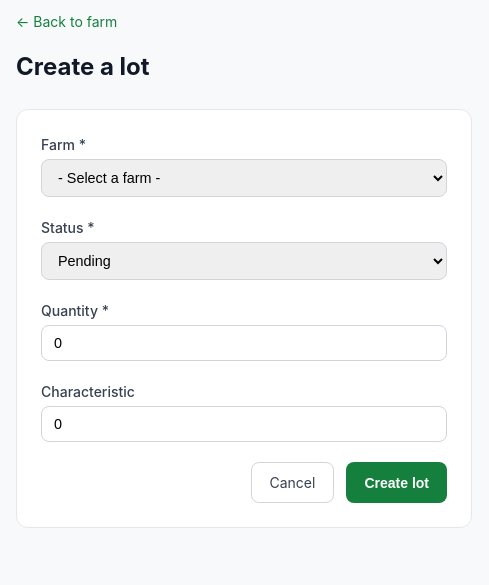
Test: CreateLotView › shows an error message when createLot fails
Select "Pepper Farm" in the dropdown below "Farm *" at (244, 178), box [41,159,447,197]
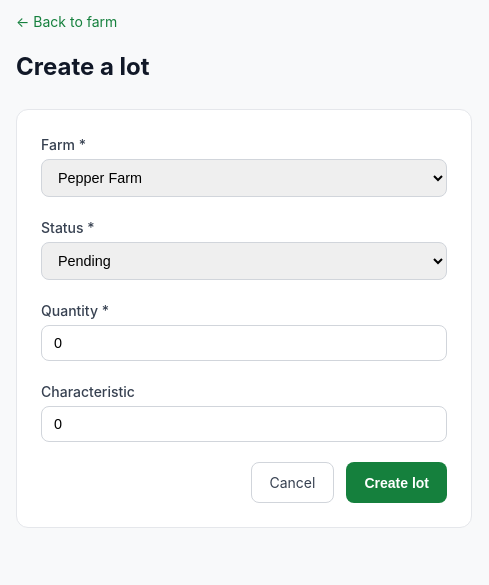
Submit the form
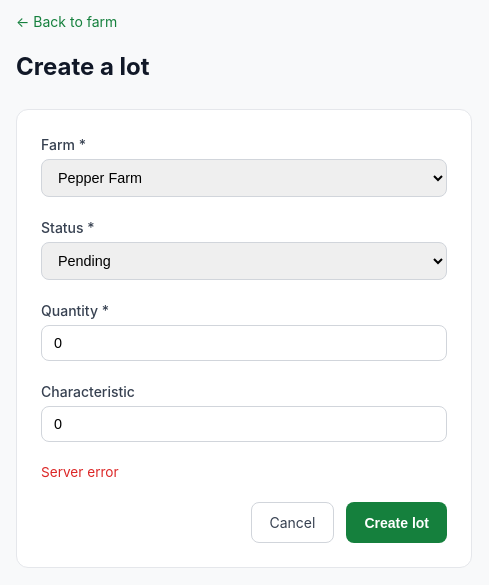
Check: the text with class "error" reads "Server error", box [41,464,119,480]
